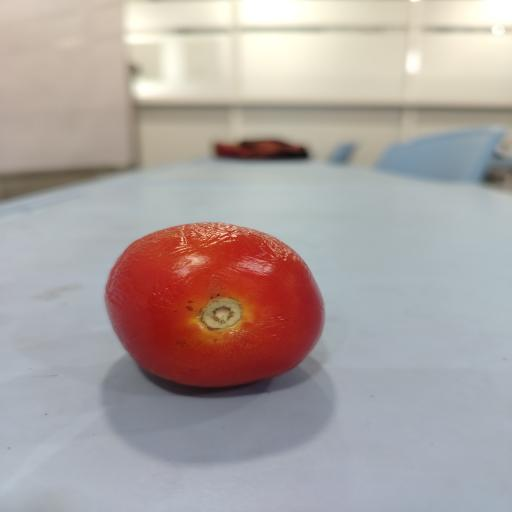spoiled: (105, 223, 324, 387)
